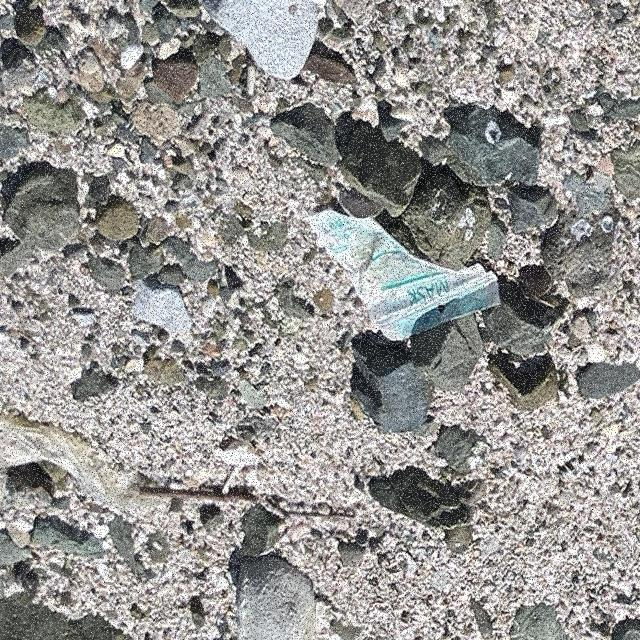plastic_waste: (302, 207, 503, 343)
